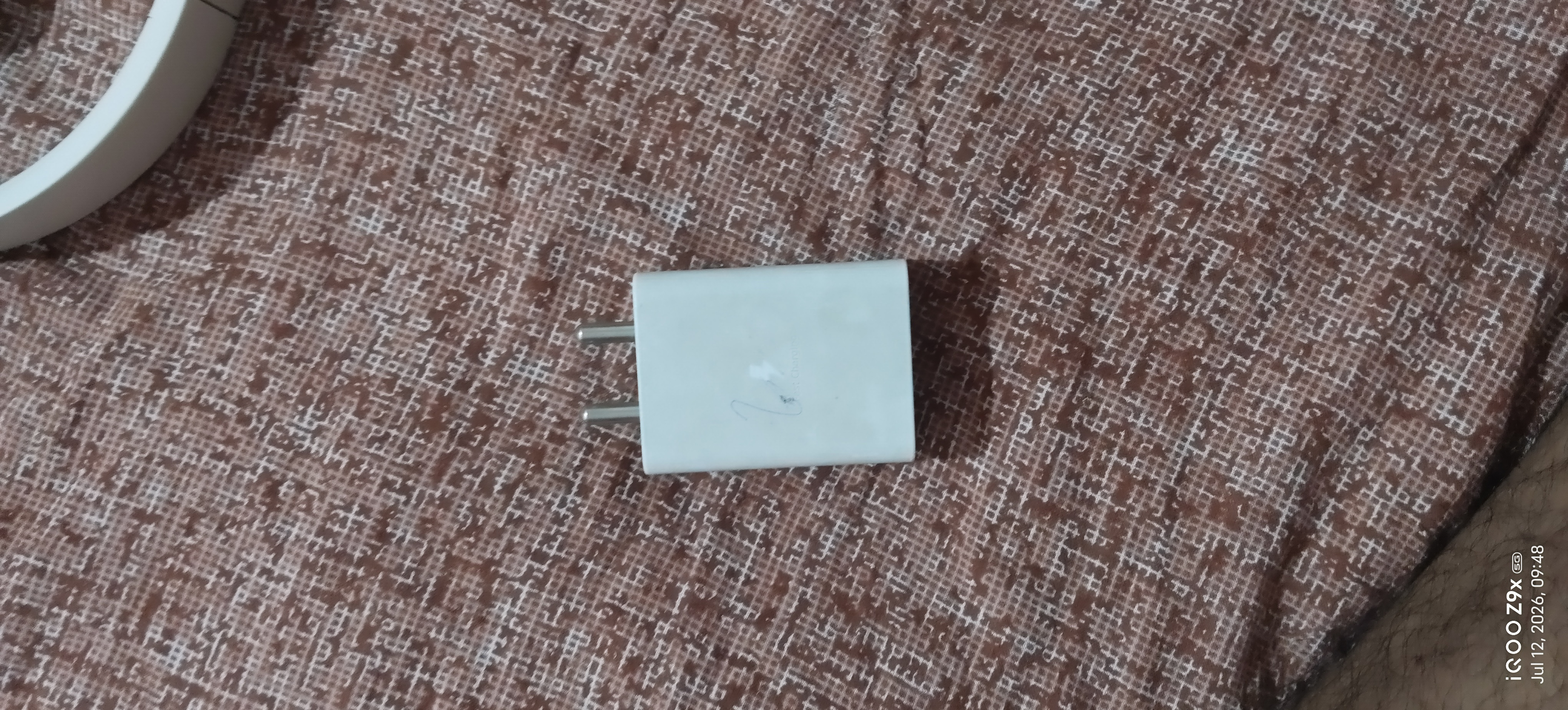charger: (545, 237, 959, 526)
